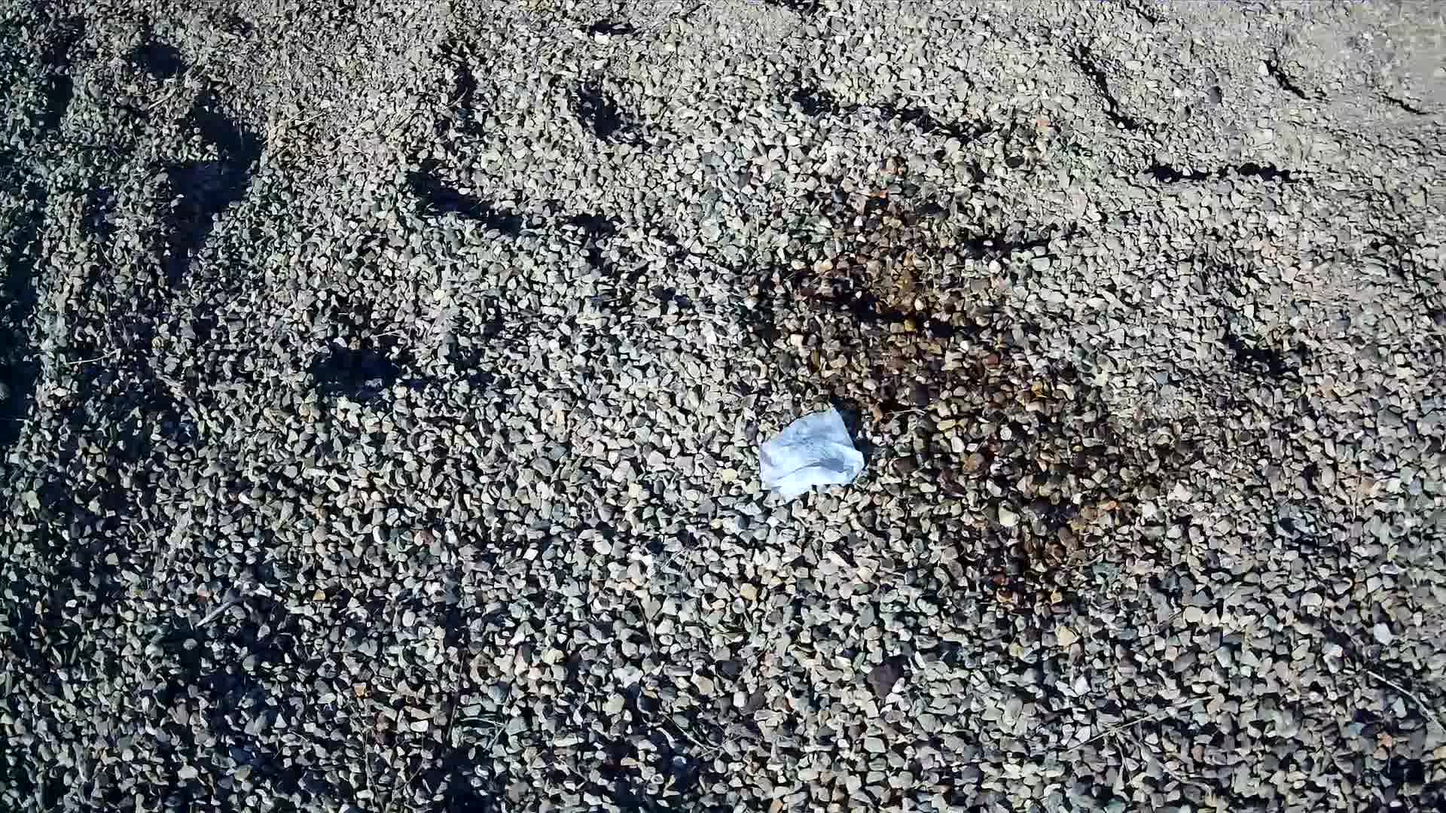Target: (761, 408, 864, 497)
